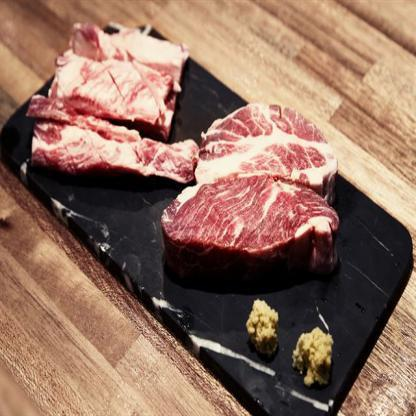pork: (162, 97, 340, 284), (28, 13, 194, 173)
